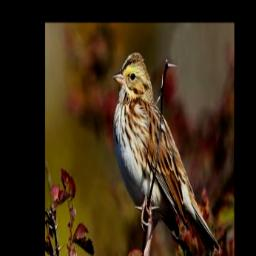Sparrow: (112, 49, 221, 256)
